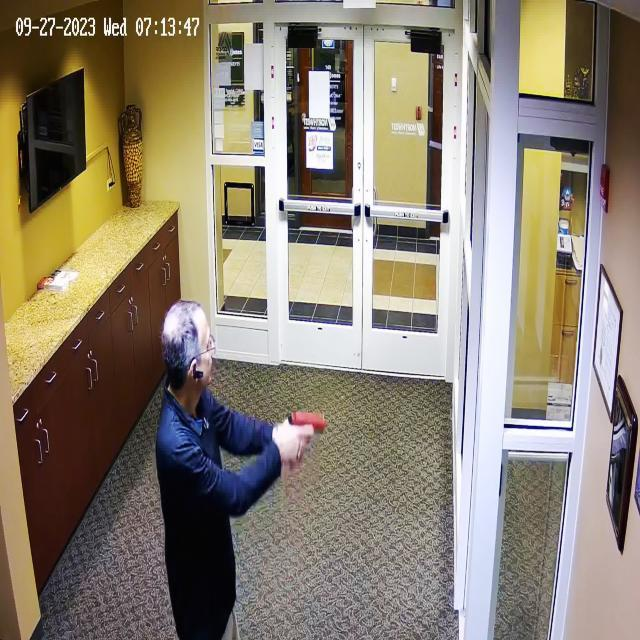Gun: (288, 400, 340, 456)
